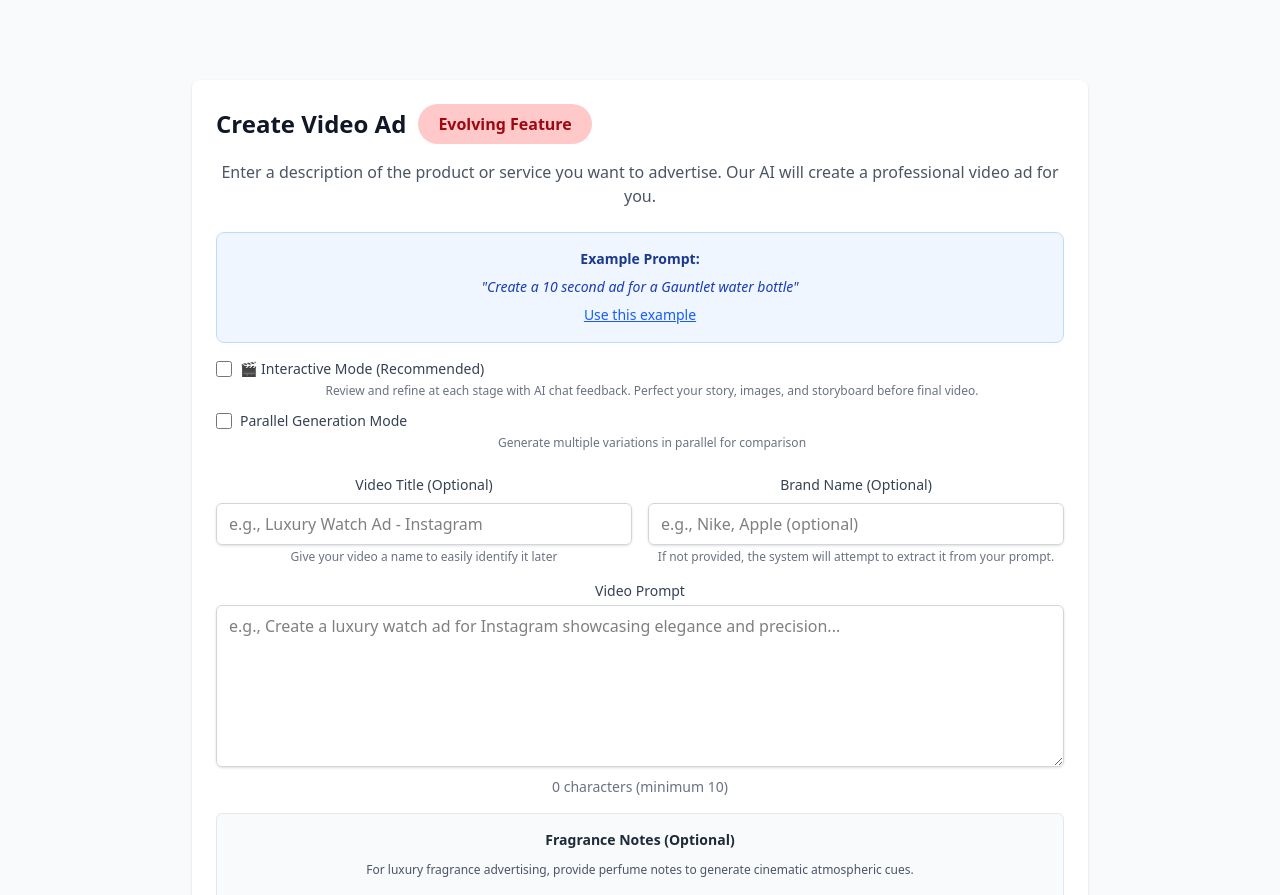
Scenario: Dashboard Prompt Validation › should enable submit button when prompt is valid
# Valid prompt
Replace the text in the text box labelled "Video Prompt" with "This is a valid prompt that is long enough". click: (640, 686)
box: [216,605,1064,767]
(page scrolled)
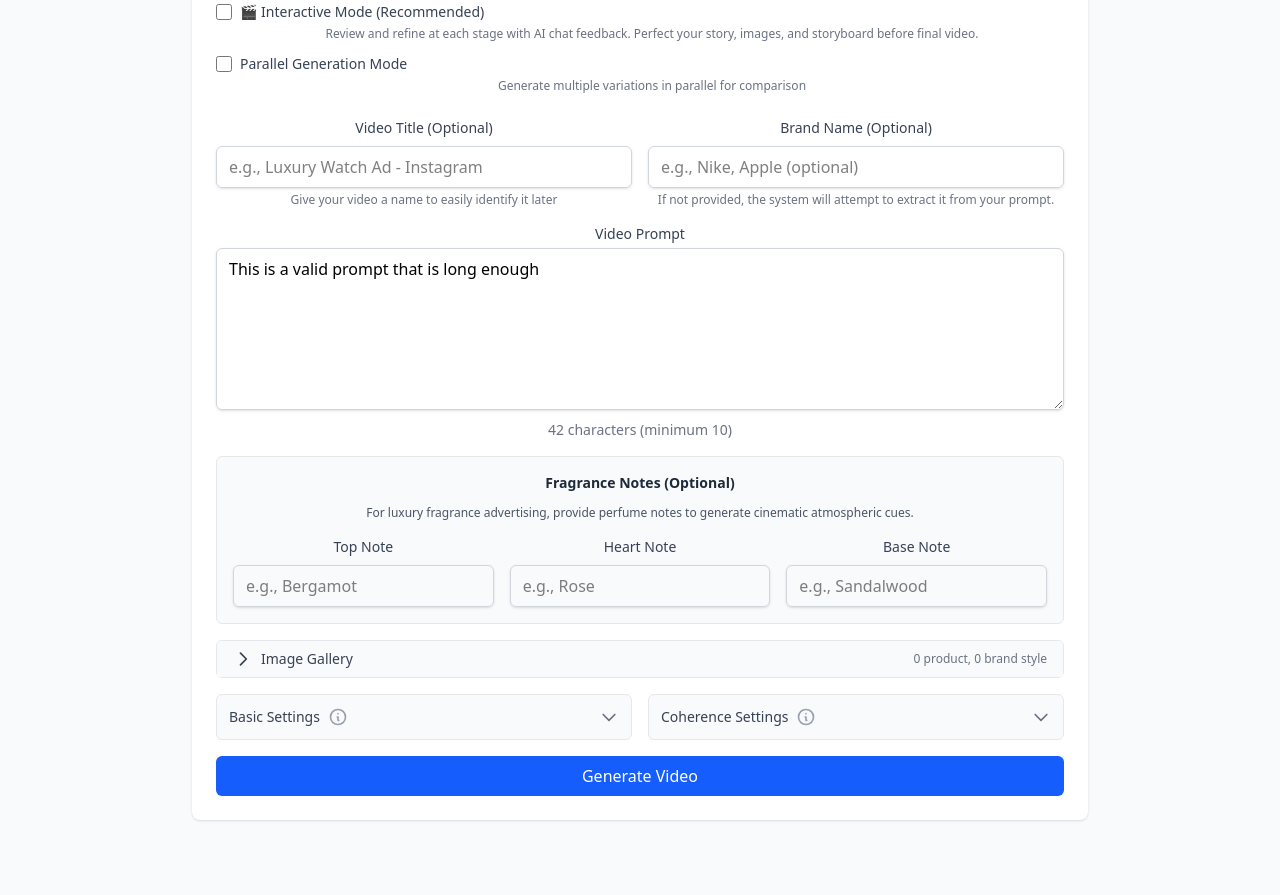
Check: the button "Generate Video" is enabled, box [216,756,1064,796]
